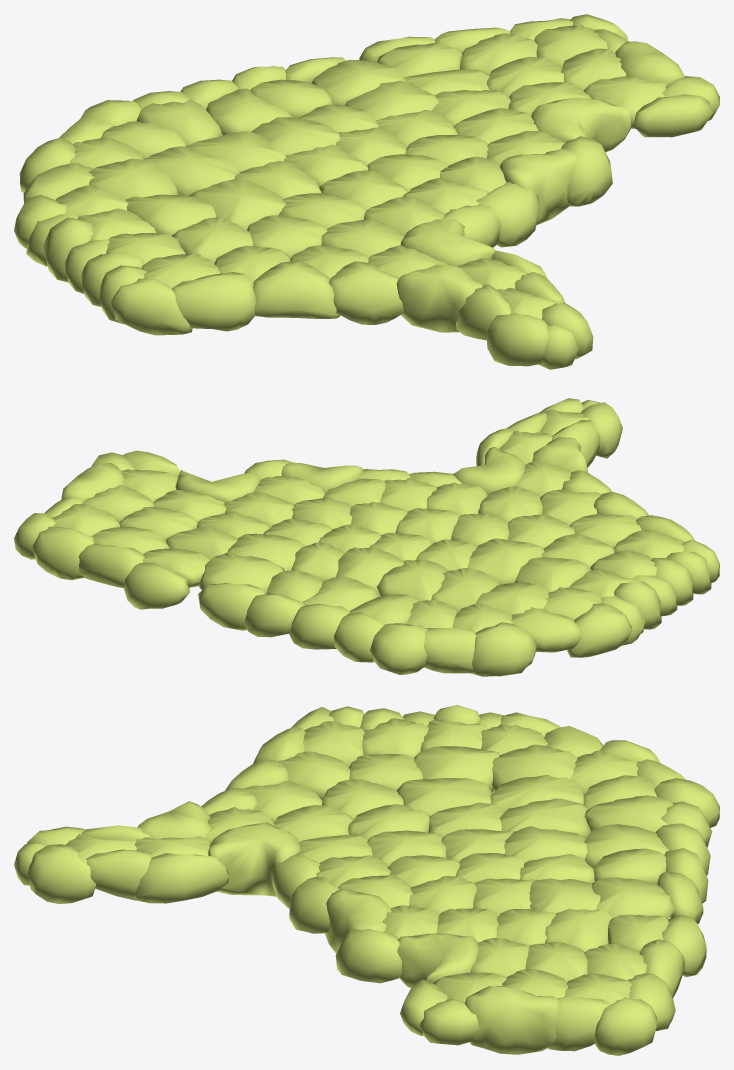
Rendered from Islands2.008_fog.fbx.
The picture shows the model from 3 angles, top to bottom: view 1: azimuth 30°, elevation 25°; view 2: azimuth 150°, elevation 25°; view 3: azimuth 270°, elevation 25°; orthographic projection. The views are drawn at different scales.
Parts seen in each view (by area): view 1: Island2.008_fog_cell.031, Island2.008_fog_cell.086, Island2.008_fog_cell.049, Island2.008_fog_cell.015, Island2.008_fog_cell.060, Island2.008_fog_cell.016, Island2.008_fog_cell.061, Island2.008_fog_cell.080, Island2.008_fog_cell.014, Island2.008_fog_cell.075, Island2.008_fog_cell.078, Island2.008_fog_cell.024 (+74 smaller); view 2: Island2.008_fog_cell.030, Island2.008_fog_cell.040, Island2.008_fog_cell.045, Island2.008_fog_cell.037, Island2.008_fog_cell.047, Island2.008_fog_cell.008, Island2.008_fog_cell.014, Island2.008_fog_cell.032, Island2.008_fog_cell.050, Island2.008_fog_cell.052, Island2.008_fog_cell.041, Island2.008_fog_cell.023 (+71 smaller); view 3: Island2.008_fog_cell.069, Island2.008_fog_cell.078, Island2.008_fog_cell.071, Island2.008_fog_cell.015, Island2.008_fog_cell.029, Island2.008_fog_cell.043, Island2.008_fog_cell.027, Island2.008_fog_cell.032, Island2.008_fog_cell.014, Island2.008_fog_cell.016, Island2.008_fog_cell.072, Island2.008_fog_cell.068 (+71 smaller).
Boxes of the visible parts, left/top/right/bottom form: Island2.008_fog_cell.031: left=396, top=264, right=482, bottom=332; Island2.008_fog_cell.086: left=253, top=261, right=339, bottom=318; Island2.008_fog_cell.049: left=171, top=272, right=255, bottom=331; Island2.008_fog_cell.015: left=531, top=97, right=631, bottom=152; Island2.008_fog_cell.060: left=329, top=261, right=404, bottom=324; Island2.008_fog_cell.016: left=500, top=148, right=576, bottom=225; Island2.008_fog_cell.061: left=111, top=278, right=192, bottom=335; Island2.008_fog_cell.080: left=486, top=313, right=548, bottom=366; Island2.008_fog_cell.014: left=189, top=179, right=286, bottom=230; Island2.008_fog_cell.075: left=634, top=94, right=712, bottom=137; Island2.008_fog_cell.078: left=400, top=219, right=495, bottom=266; Island2.008_fog_cell.024: left=143, top=146, right=239, bottom=195; Island2.008_fog_cell.030: left=471, top=622, right=536, bottom=676; Island2.008_fog_cell.040: left=370, top=623, right=427, bottom=674; Island2.008_fog_cell.045: left=124, top=562, right=189, bottom=609; Island2.008_fog_cell.037: left=567, top=603, right=632, bottom=657; Island2.008_fog_cell.047: left=32, top=526, right=94, bottom=579; Island2.008_fog_cell.008: left=424, top=628, right=476, bottom=673; Island2.008_fog_cell.014: left=467, top=538, right=544, bottom=584; Island2.008_fog_cell.032: left=199, top=552, right=284, bottom=593; Island2.008_fog_cell.050: left=198, top=583, right=265, bottom=630; Island2.008_fog_cell.052: left=511, top=607, right=581, bottom=652; Island2.008_fog_cell.041: left=78, top=544, right=144, bottom=588; Island2.008_fog_cell.023: left=377, top=559, right=448, bottom=600; Island2.008_fog_cell.069: left=464, top=986, right=561, bottom=1054; Island2.008_fog_cell.078: left=208, top=822, right=299, bottom=896; Island2.008_fog_cell.071: left=134, top=853, right=229, bottom=903; Island2.008_fog_cell.015: left=397, top=933, right=478, bottom=988; Island2.008_fog_cell.029: left=28, top=844, right=96, bottom=903; Island2.008_fog_cell.043: left=335, top=928, right=401, bottom=983; Island2.008_fog_cell.027: left=594, top=997, right=656, bottom=1055; Island2.008_fog_cell.032: left=591, top=877, right=675, bottom=918; Island2.008_fog_cell.014: left=396, top=778, right=493, bottom=815; Island2.008_fog_cell.016: left=325, top=889, right=391, bottom=953; Island2.008_fog_cell.072: left=414, top=746, right=499, bottom=791; Island2.008_fog_cell.068: left=492, top=744, right=577, bottom=791.
Size of the model in its own units: 112 by 9.91 by 105.
